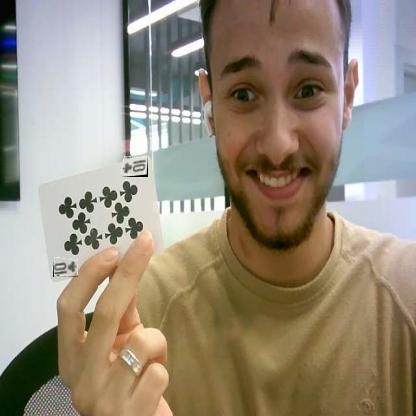10C: (122, 157, 148, 177), (53, 258, 78, 277)
